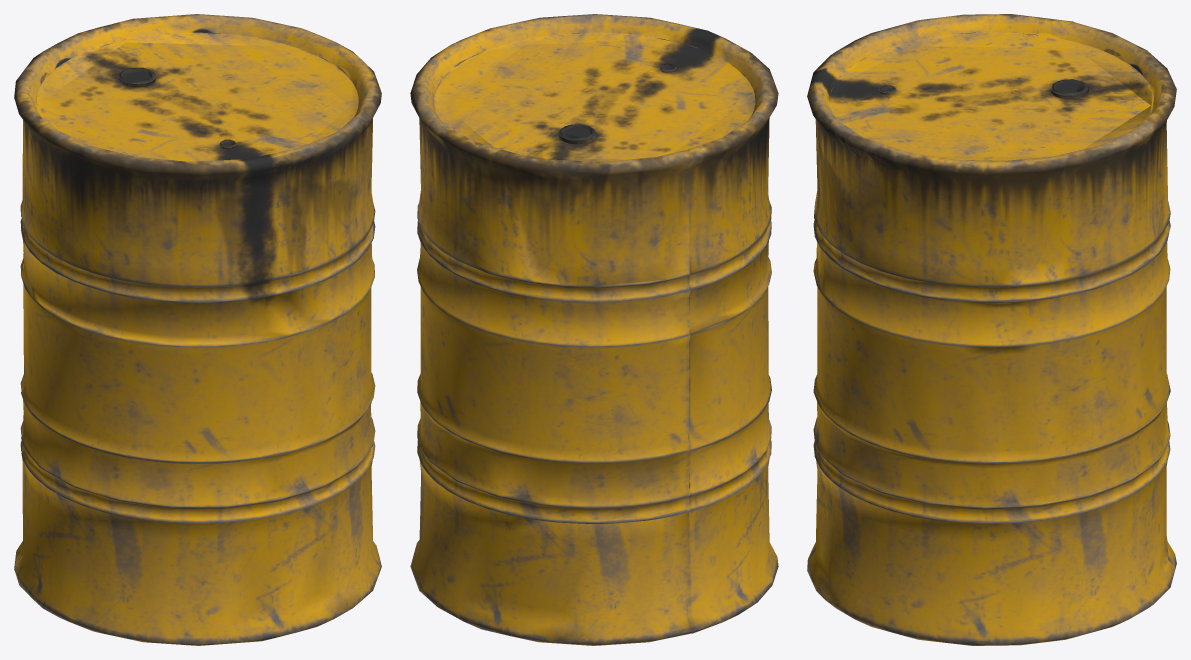
File: drum_oil_02.glb
3 views of the same model, side by side, from view 1: azimuth 30°, elevation 25°; view 2: azimuth 150°, elevation 25°; view 3: azimuth 270°, elevation 25° (orthographic).
Parts seen in each view (by area): view 1: pCylinder3_texture_0; view 2: pCylinder3_texture_0; view 3: pCylinder3_texture_0.
Boxes of the visible parts, left/top/right/bottom form: pCylinder3_texture_0: left=14, top=14, right=381, bottom=645; pCylinder3_texture_0: left=410, top=14, right=778, bottom=645; pCylinder3_texture_0: left=807, top=14, right=1176, bottom=645.
Bounding box in the file's own units: 0.622 × 0.9 × 0.6246.
Materials: 1 (1 with a texture image).
